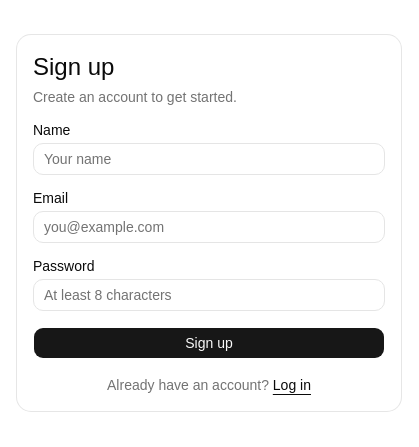
SignupPage › shows a validation error for invalid email
In the field with test id "signup-name": (209, 159) 33,143 -> 385,175, type "Test User"
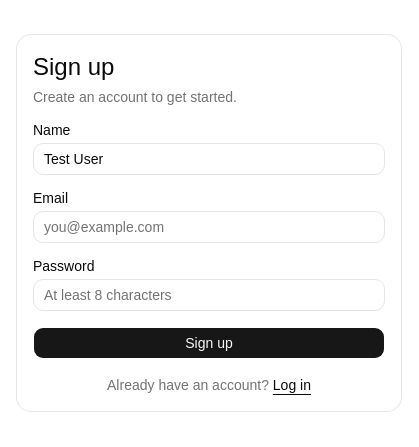
In the field with test id "signup-email": (209, 227) 33,211 -> 385,243, type "bad-email"
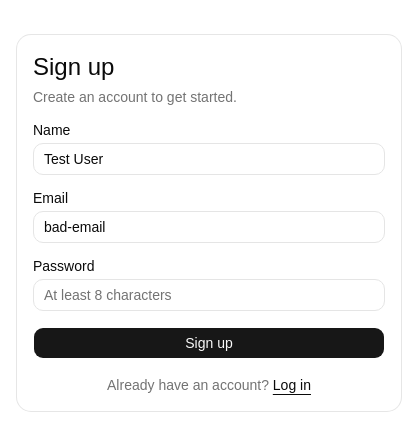
In the password field with test id "signup-password": (209, 295) 33,279 -> 385,311, type "password123"
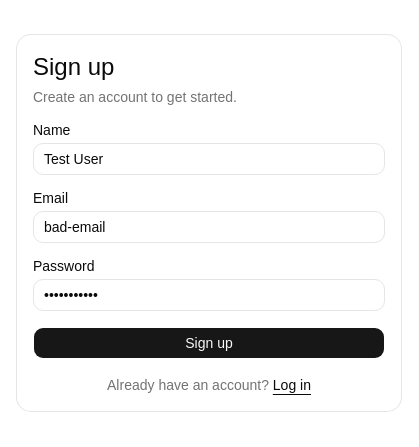
Submit the form from the button with test id "signup-submit", box 33,327 -> 385,359
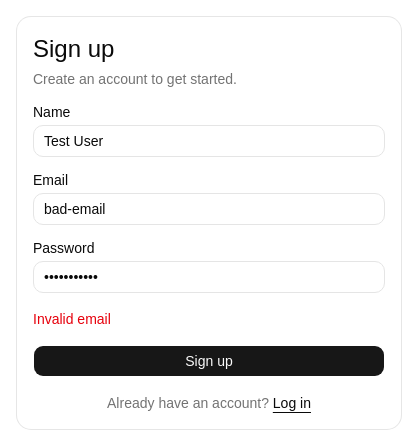
Result: the text with test id "signup-error" reads "Invalid email" at 33,311 -> 111,327
